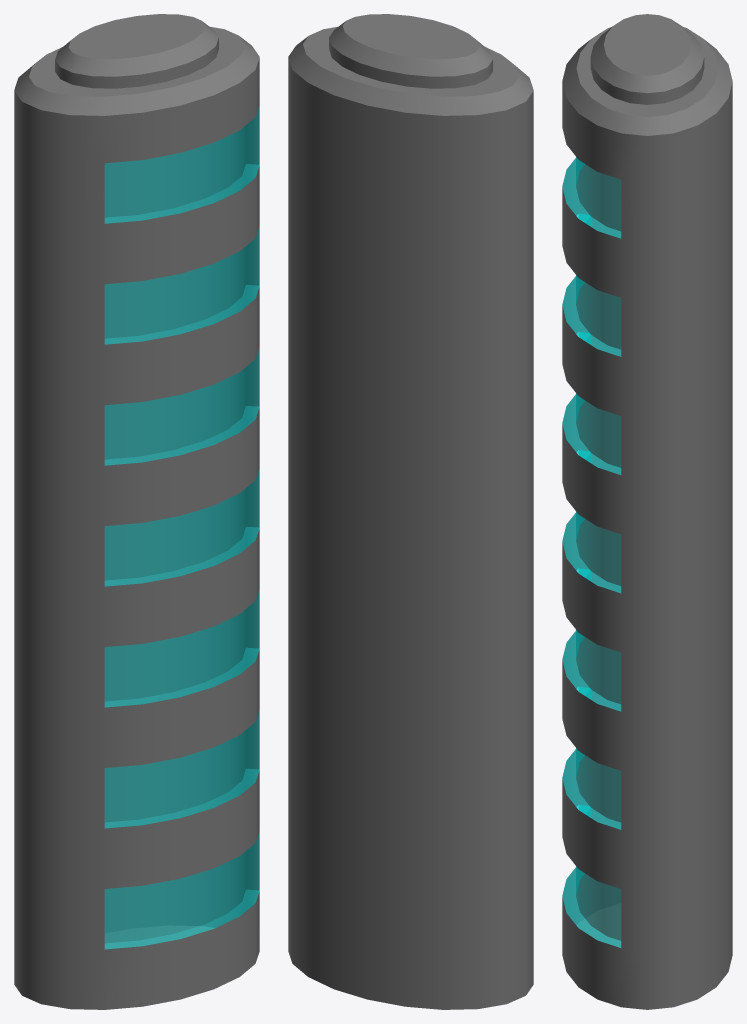
The model's file is Cylinder Building.fbx.
The picture shows the model from 3 angles, left to right: view 1: azimuth 30°, elevation 25°; view 2: azimuth 150°, elevation 25°; view 3: azimuth 270°, elevation 25°; orthographic projection. The views are drawn at different scales.
Visible parts, largest first — view 1: Cylinder_Building; view 2: Cylinder_Building; view 3: Cylinder_Building.
Part boxes in pixels (x1=…): Cylinder_Building: x1=14, y1=14, x2=259, y2=1009; Cylinder_Building: x1=288, y1=14, x2=533, y2=1009; Cylinder_Building: x1=562, y1=14, x2=732, y2=1009.
Bounding box in the file's own units: 30.67 × 119 × 20.14.
